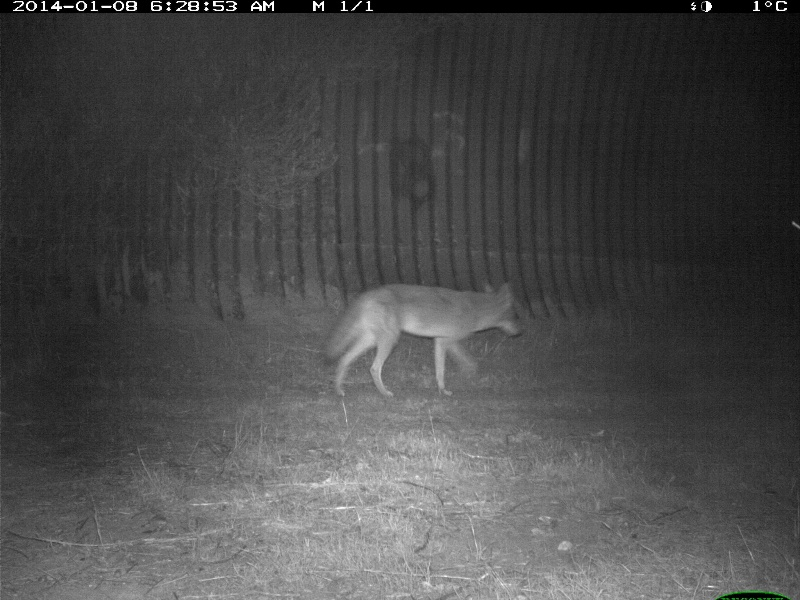coyote: (321, 277, 525, 401)
